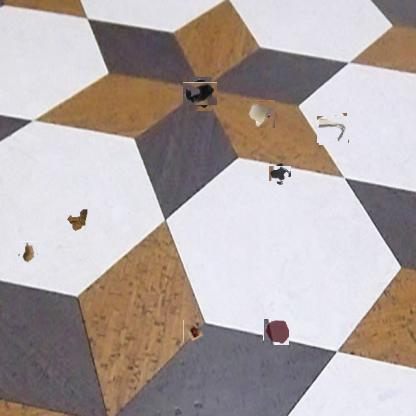dirty: (318, 115, 348, 144), (186, 80, 215, 108), (248, 100, 276, 128), (66, 206, 91, 231), (183, 320, 204, 342), (18, 243, 39, 263)
liquid: (263, 319, 289, 345), (271, 163, 290, 183)
